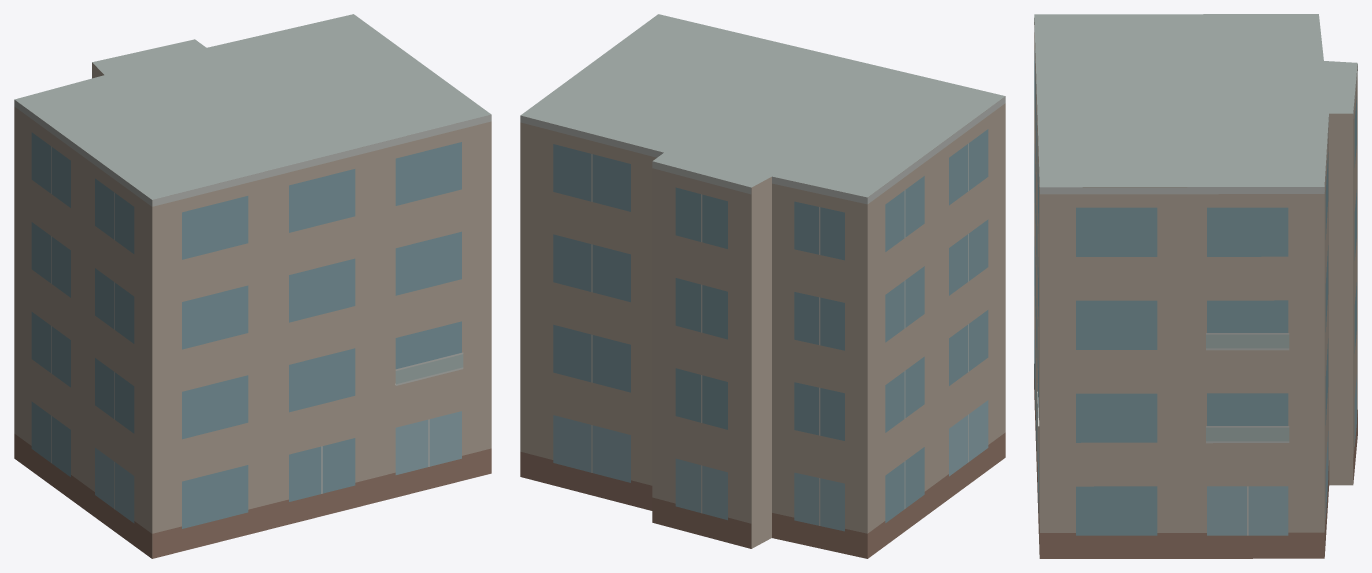
File: survey-upis-32702937.glb
3 renders of one model, left to right at view 1: azimuth 30°, elevation 25°; view 2: azimuth 150°, elevation 25°; view 3: azimuth 270°, elevation 25°, orthographic. The views are drawn at different scales.
Parts seen in each view (by area): view 1: survey-upis-32702937.tmp; view 2: survey-upis-32702937.tmp; view 3: survey-upis-32702937.tmp.
Part boxes in pixels (x1,y1,x2,y2): survey-upis-32702937.tmp: (14,14,491,558); survey-upis-32702937.tmp: (520,14,1005,558); survey-upis-32702937.tmp: (1034,14,1357,558).
Size of the model in its own units: 12.72 by 12.7 by 10.03.
